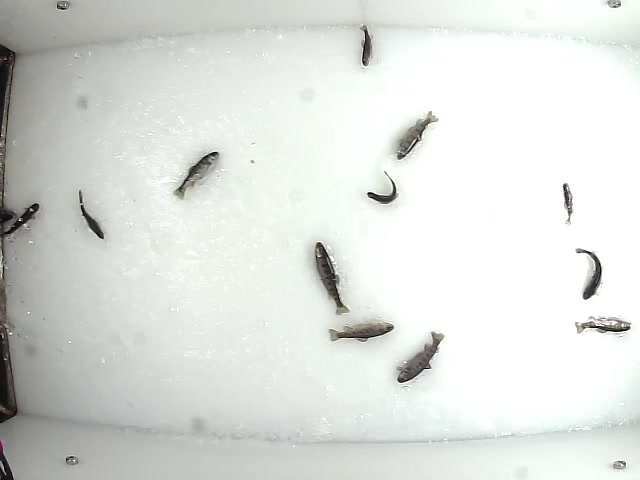fish: (310, 238, 351, 318), (396, 329, 447, 384), (172, 149, 219, 203), (392, 109, 440, 161), (573, 245, 604, 302), (76, 187, 107, 243), (327, 320, 395, 344), (1, 201, 38, 243), (573, 314, 633, 336), (364, 169, 397, 207), (358, 22, 375, 68), (560, 181, 576, 229)
